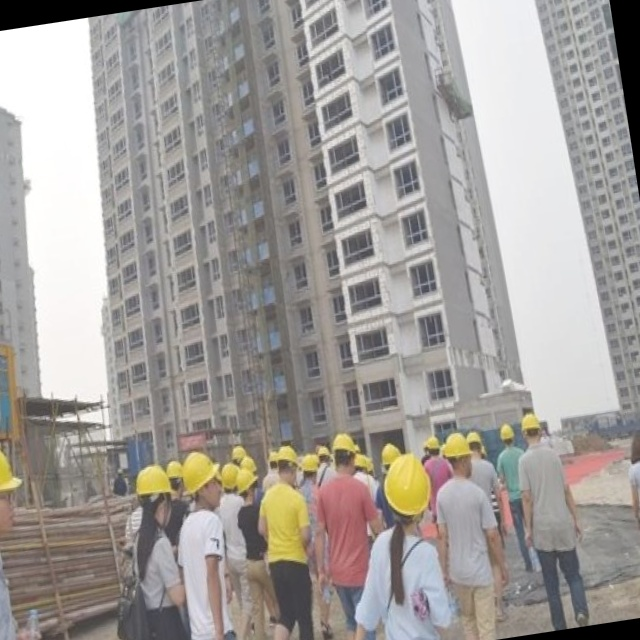Con_Casco: (378, 450, 435, 525), (0, 439, 31, 533), (330, 428, 360, 472)
